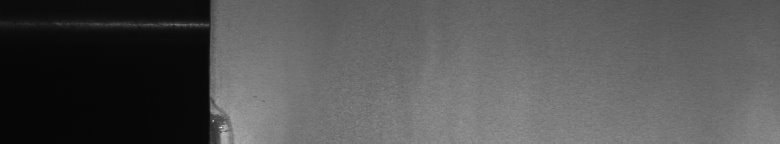hb: (220, 104, 237, 136)
